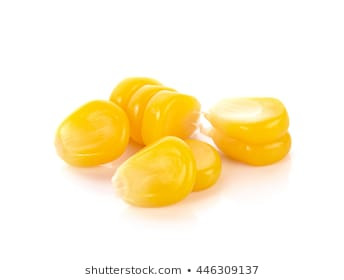corn: (108, 135, 195, 209), (54, 97, 133, 167), (200, 95, 291, 142), (142, 91, 203, 144)
